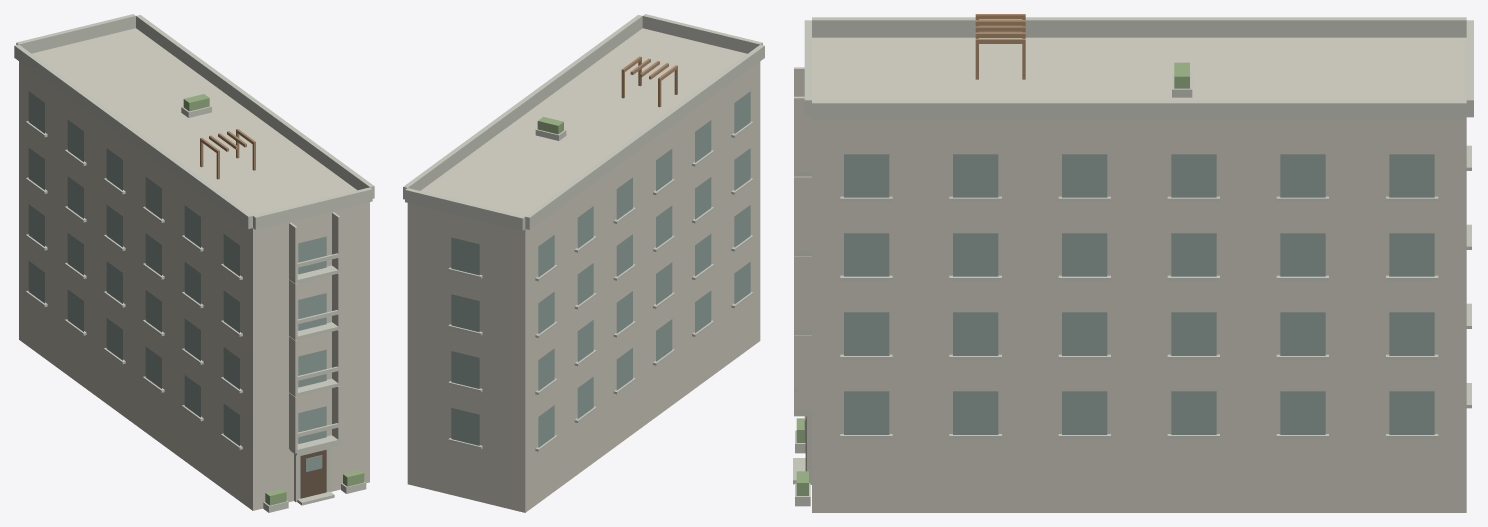
Rendered from residential_1x3_b.glb.
3 renders of one model, left to right at view 1: azimuth 30°, elevation 25°; view 2: azimuth 150°, elevation 25°; view 3: azimuth 270°, elevation 25°, orthographic. The views are drawn at different scales.
Visible parts, largest first — view 1: residential_1x3_b_0; view 2: residential_1x3_b_0; view 3: residential_1x3_b_0.
Boxes of the visible parts, x1,y1,x2,y2 form: residential_1x3_b_0: (14, 14, 374, 512); residential_1x3_b_0: (403, 14, 764, 512); residential_1x3_b_0: (793, 14, 1473, 512).
Size of the model in its own units: 7 by 16.5 by 23.4.
